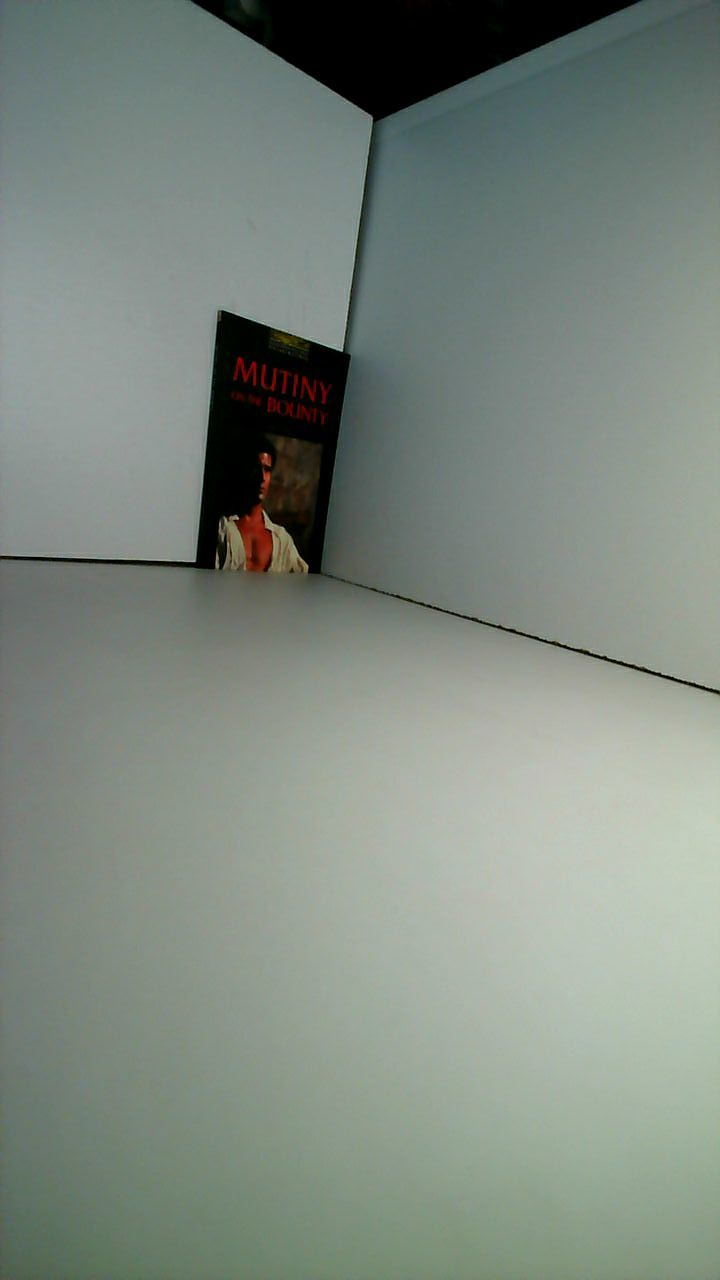book: (189, 297, 356, 589)
